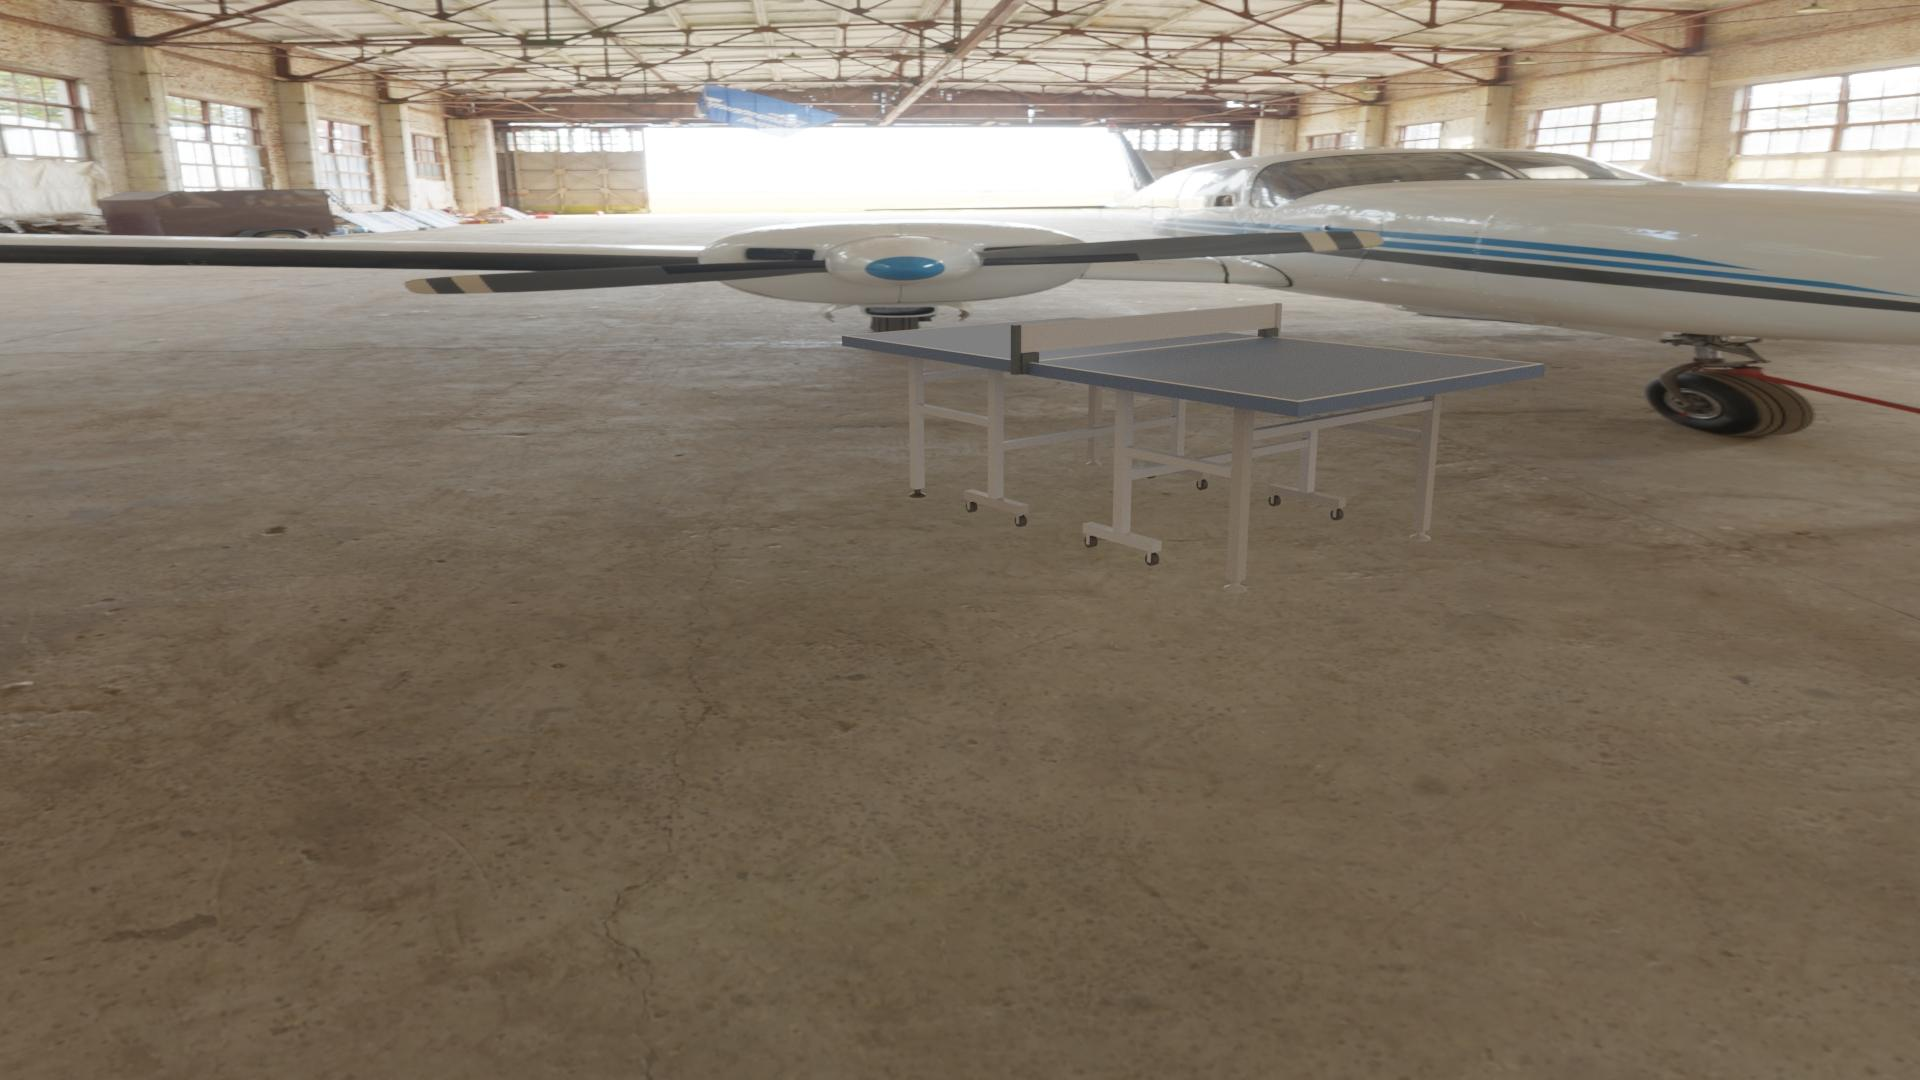table: (848, 318, 1538, 401)
